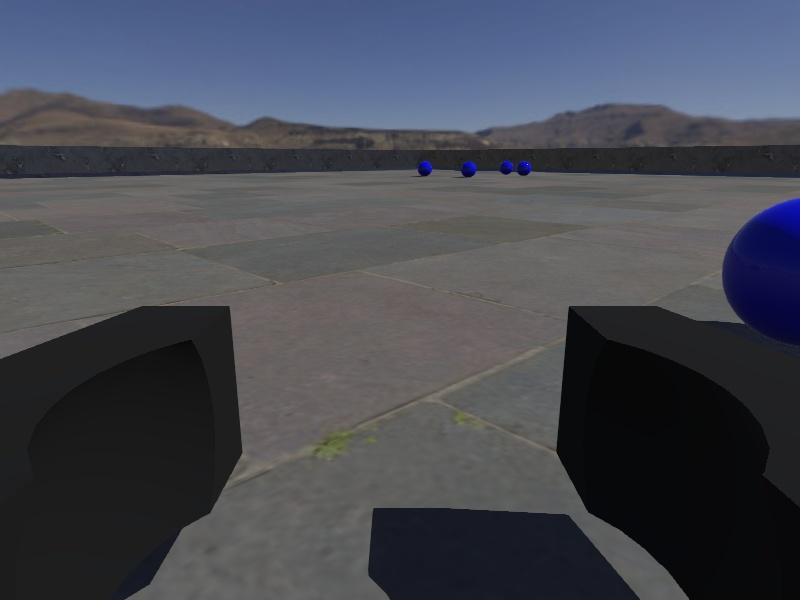blue ball: (460, 160, 477, 178), (417, 159, 433, 176), (498, 160, 513, 175), (516, 160, 530, 175)
